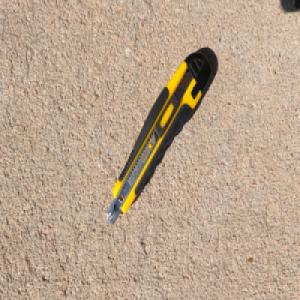Cutter: (105, 49, 212, 226)
